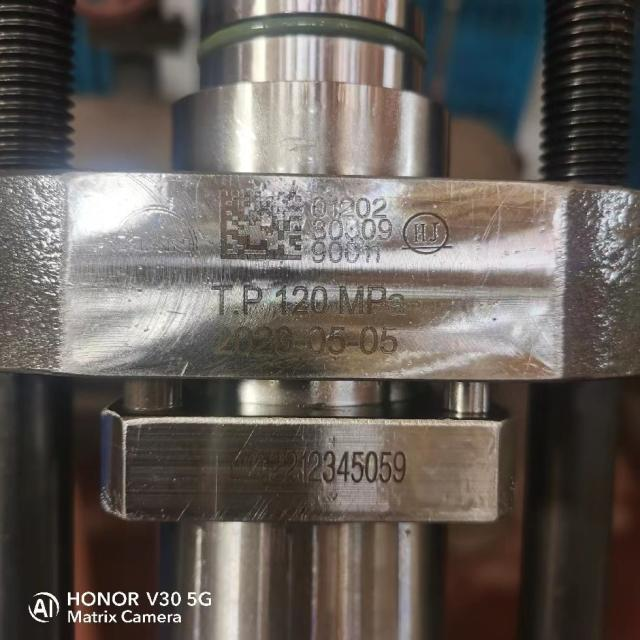dmc: (220, 190, 301, 260)
